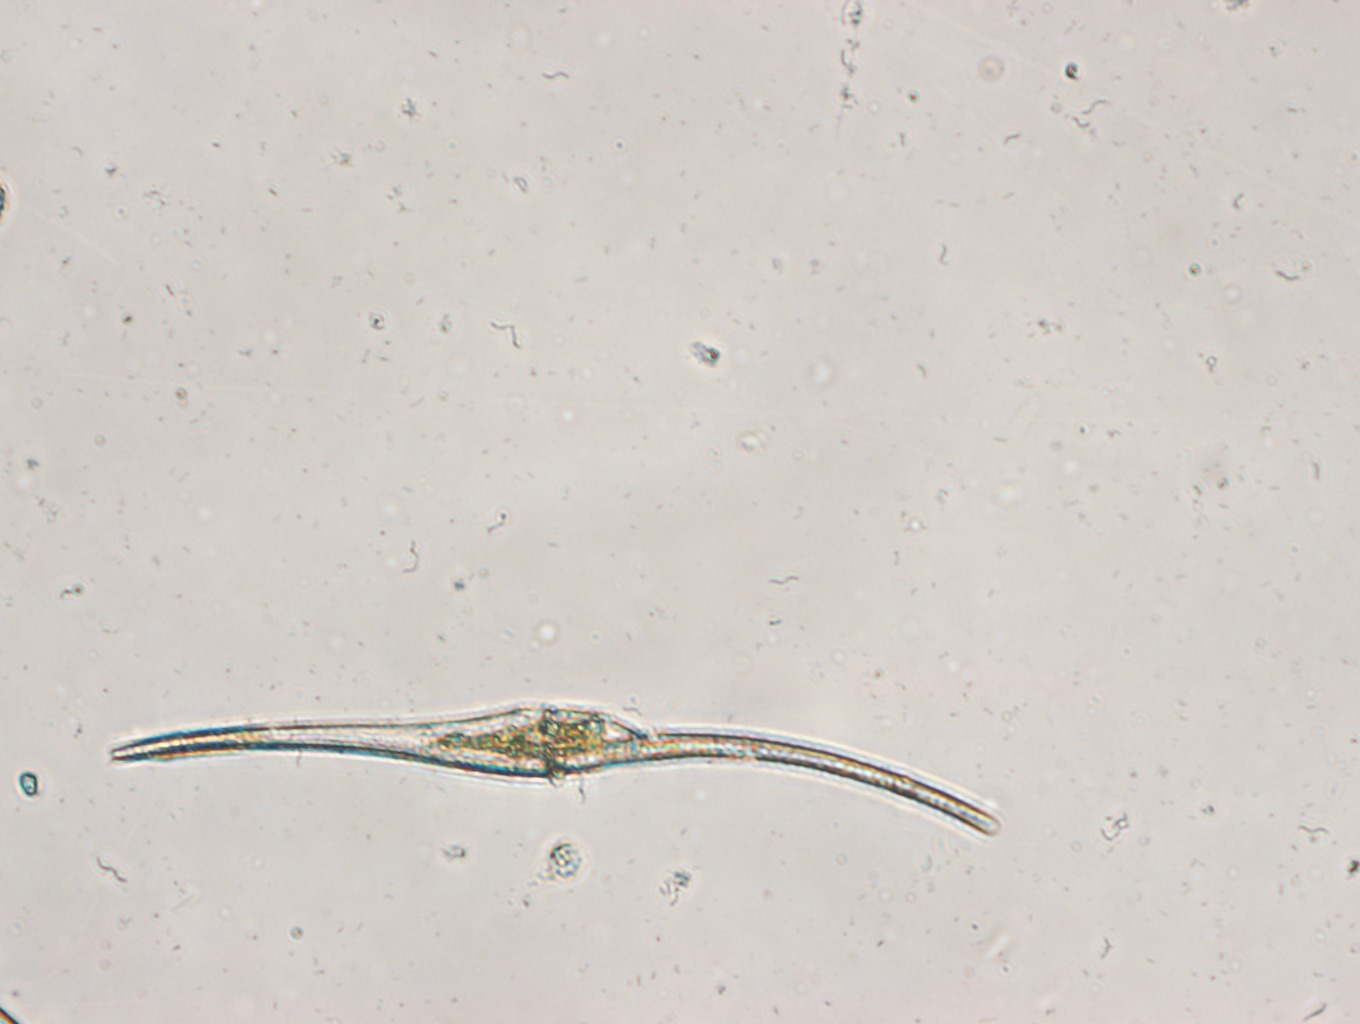ceratium fusus: (106, 689, 1006, 858)
